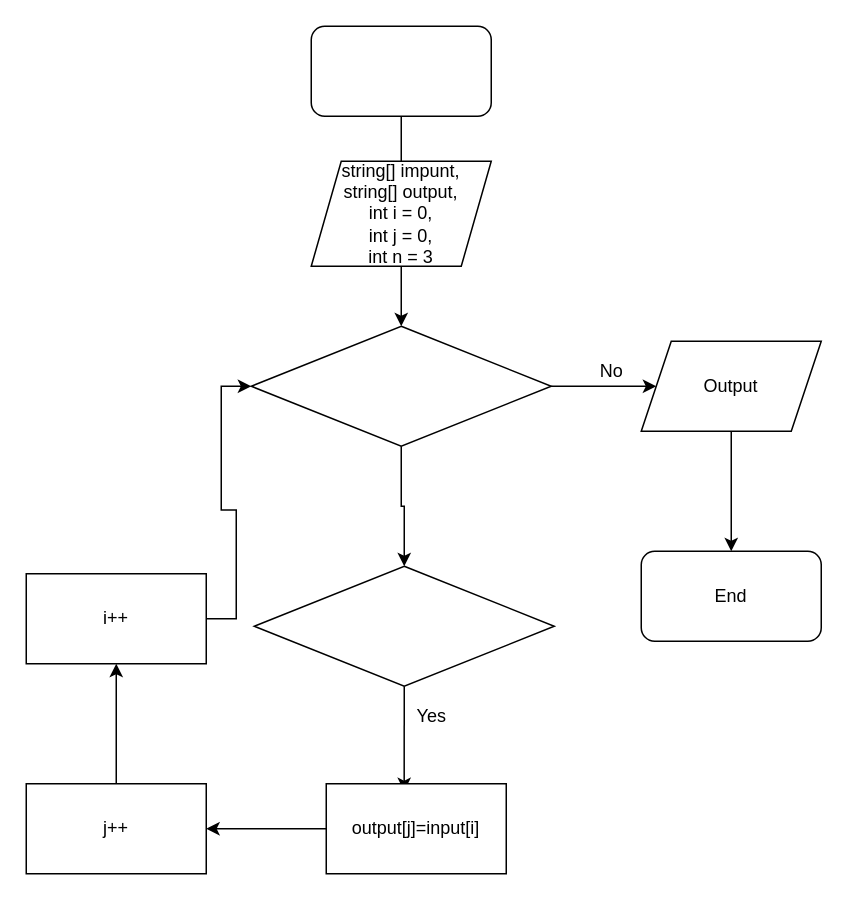
Some shapes in this 848 by 900 pixel diagram are drawn without their labels. The centre of each missing label's shape, as x and y in pixels:
"i < imput. Lenght" belongs at [400,385].
"imput{i}.Lenght <=n" belongs at [403,625].
"Start" belongs at [400,70].
